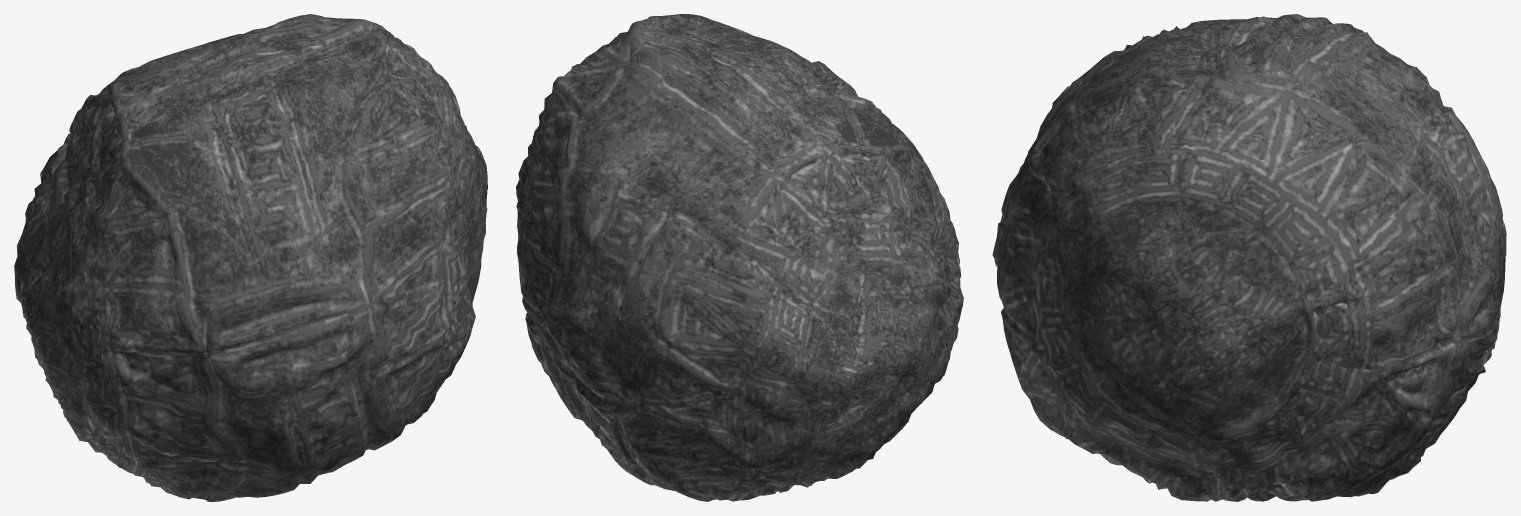
Rendered from mediumstone_asset.fbx.
The picture shows the model from 3 angles, left to right: view 1: azimuth 30°, elevation 25°; view 2: azimuth 150°, elevation 25°; view 3: azimuth 270°, elevation 25°; orthographic projection. The views are drawn at different scales.
Parts seen in each view (by area): view 1: PM3D_Sphere3D2:PM3D_Sphere3D1_2:Group53765; view 2: PM3D_Sphere3D2:PM3D_Sphere3D1_2:Group53765; view 3: PM3D_Sphere3D2:PM3D_Sphere3D1_2:Group53765.
Boxes of the visible parts, x1,y1,x2,y2 form: PM3D_Sphere3D2:PM3D_Sphere3D1_2:Group53765: (14,14,487,501); PM3D_Sphere3D2:PM3D_Sphere3D1_2:Group53765: (516,14,963,501); PM3D_Sphere3D2:PM3D_Sphere3D1_2:Group53765: (992,14,1506,501).
Bounding box in the file's own units: 3.64 × 3.54 × 3.51.
1 material, 1 textured.
